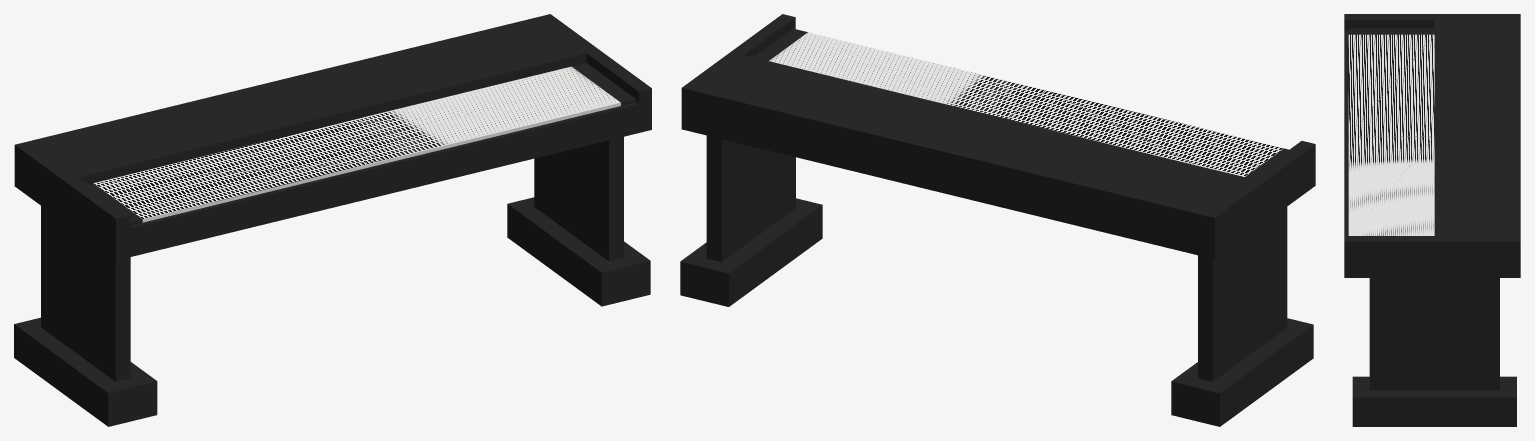
Rendered from Keyboard.fbx.
3 views of the same model, side by side, from view 1: azimuth 30°, elevation 25°; view 2: azimuth 150°, elevation 25°; view 3: azimuth 270°, elevation 25° (orthographic). The views are drawn at different scales.
Parts seen in each view (by area): view 1: pCube1; view 2: pCube1; view 3: pCube1.
Part boxes in pixels (box(x1,y1,x2,y2)): pCube1: box(14, 14, 651, 426); pCube1: box(680, 14, 1315, 426); pCube1: box(1344, 14, 1520, 426).
Size of the model in its own units: 12.79 by 4.75 by 4.14.
3 materials, 1 textured.
